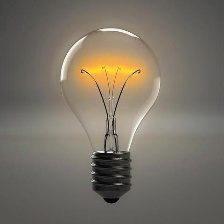light_bulb: (58, 24, 163, 207)
